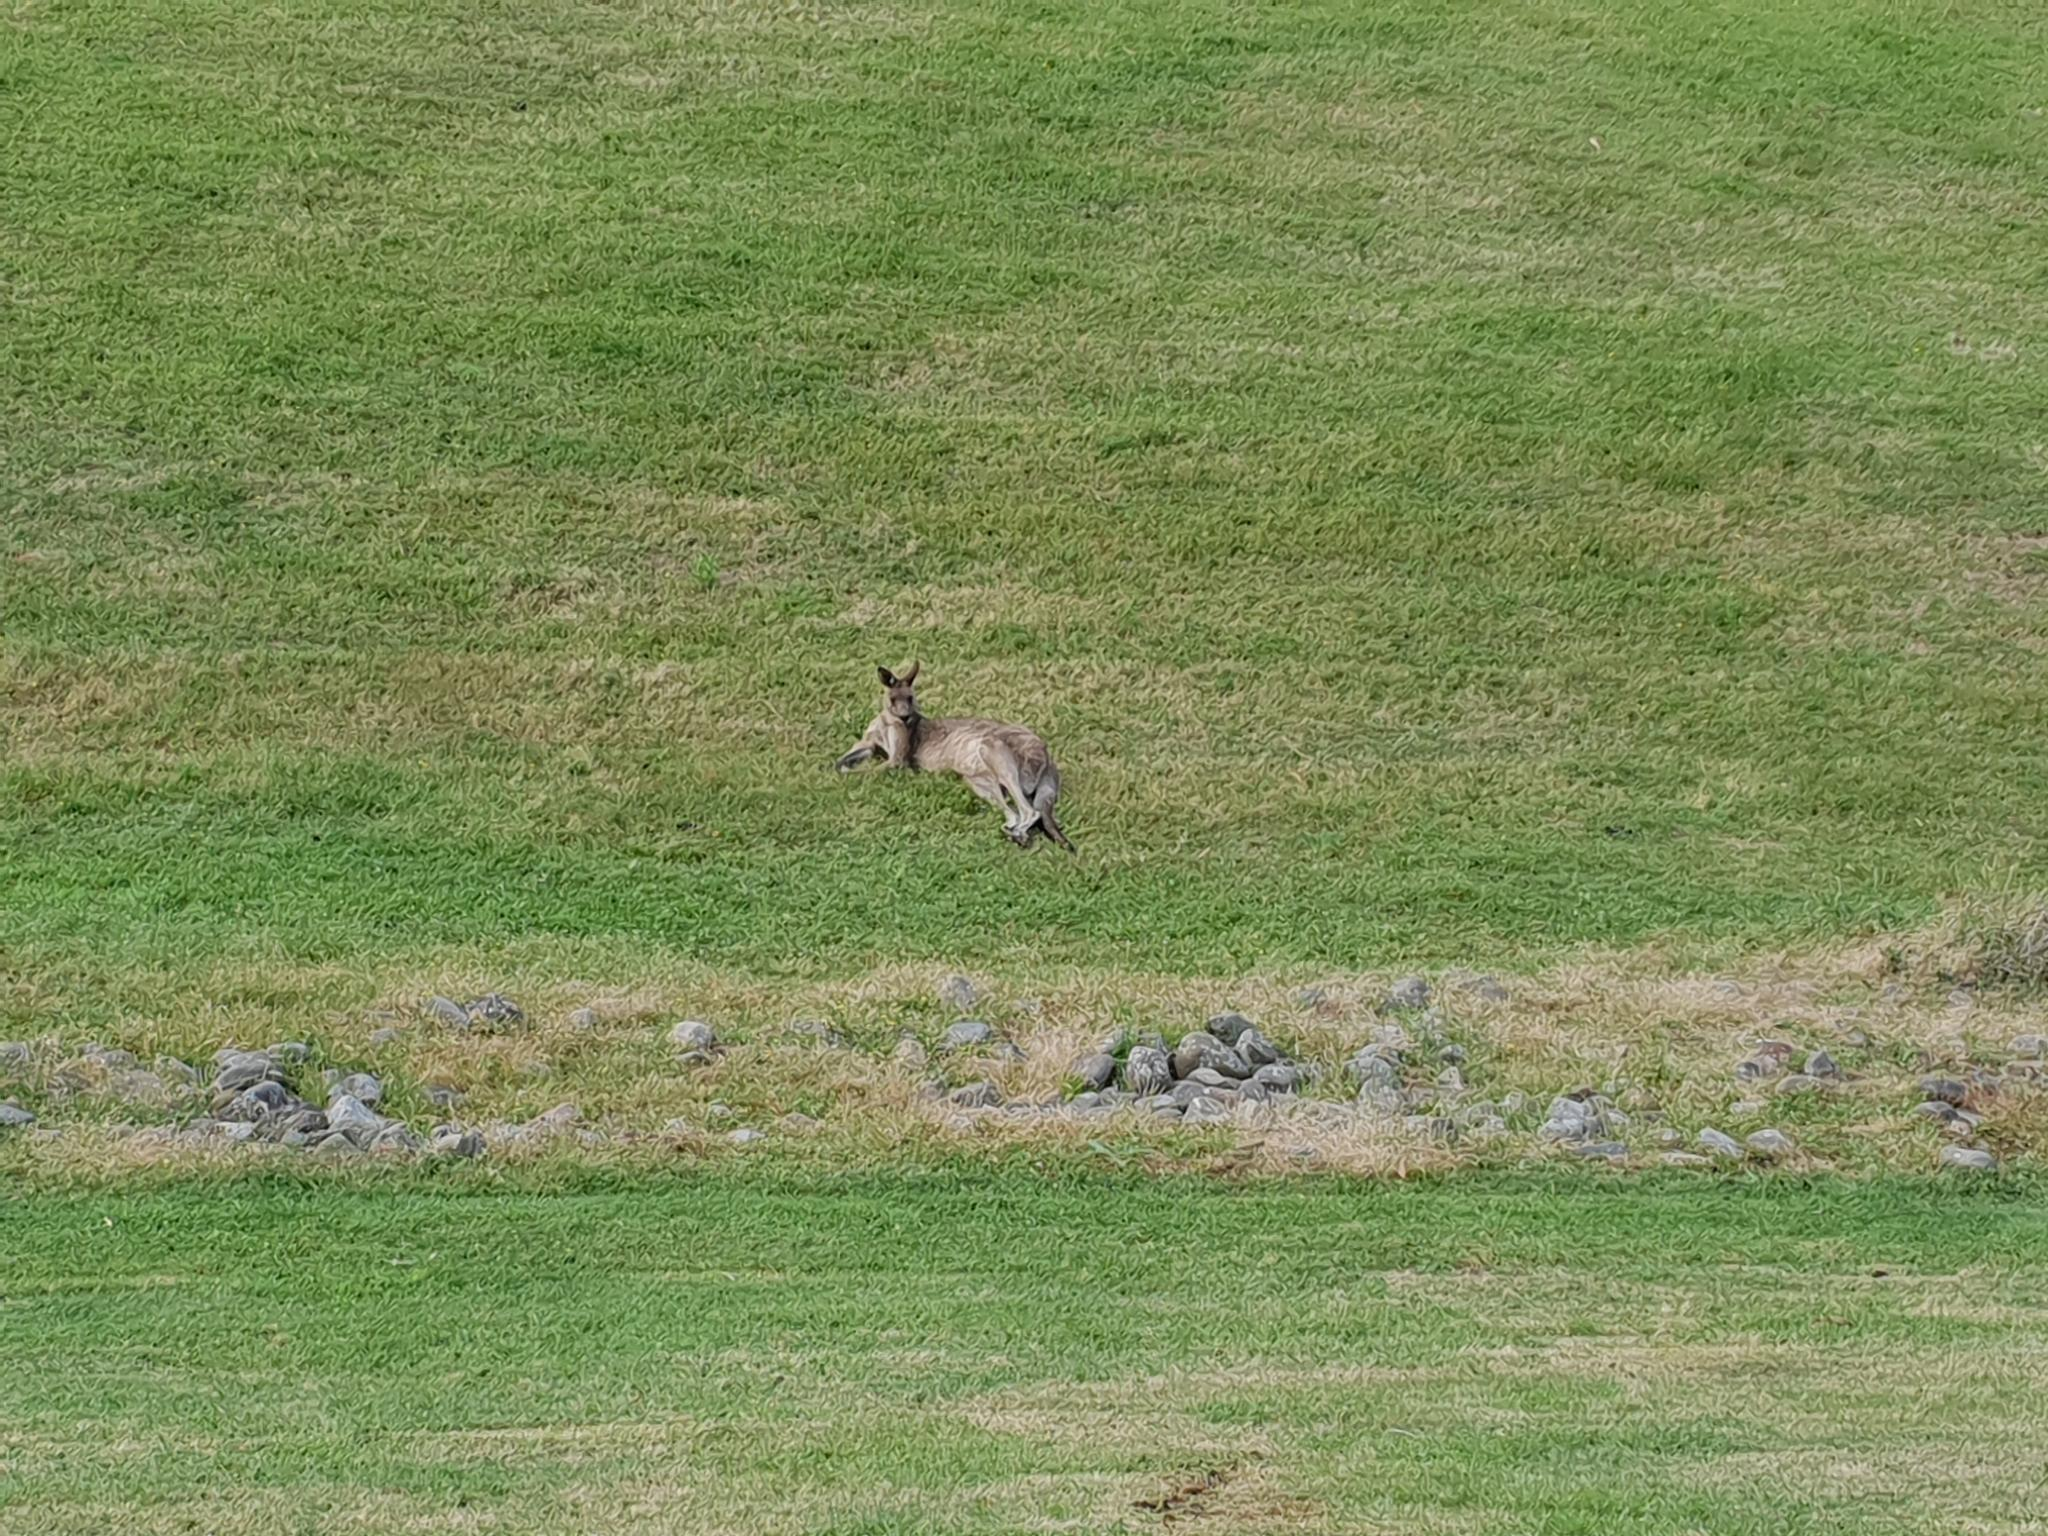Eastern grey kangaroo: (826, 658, 1069, 855)
